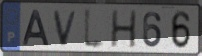6: (170, 9, 193, 50), (141, 11, 163, 49)
A: (22, 9, 52, 47)
H: (109, 9, 138, 50)
L: (82, 6, 108, 52)
V: (52, 9, 80, 47)
